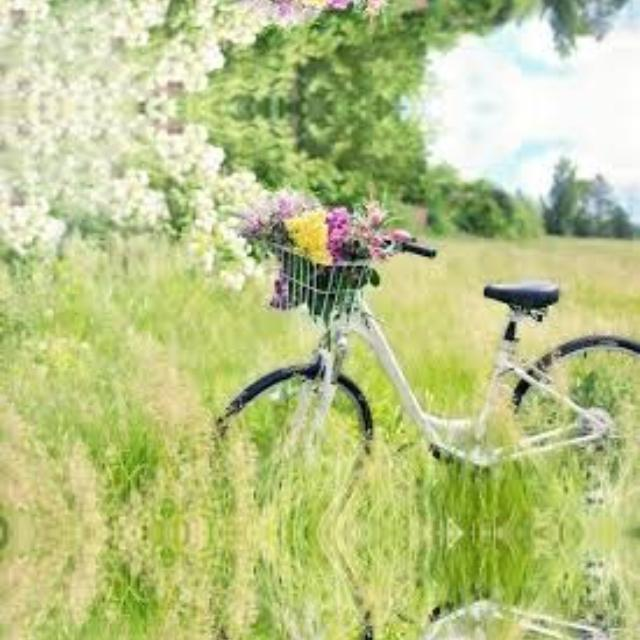obstacle: (195, 185, 640, 515), (194, 551, 639, 640), (194, 0, 639, 29)
